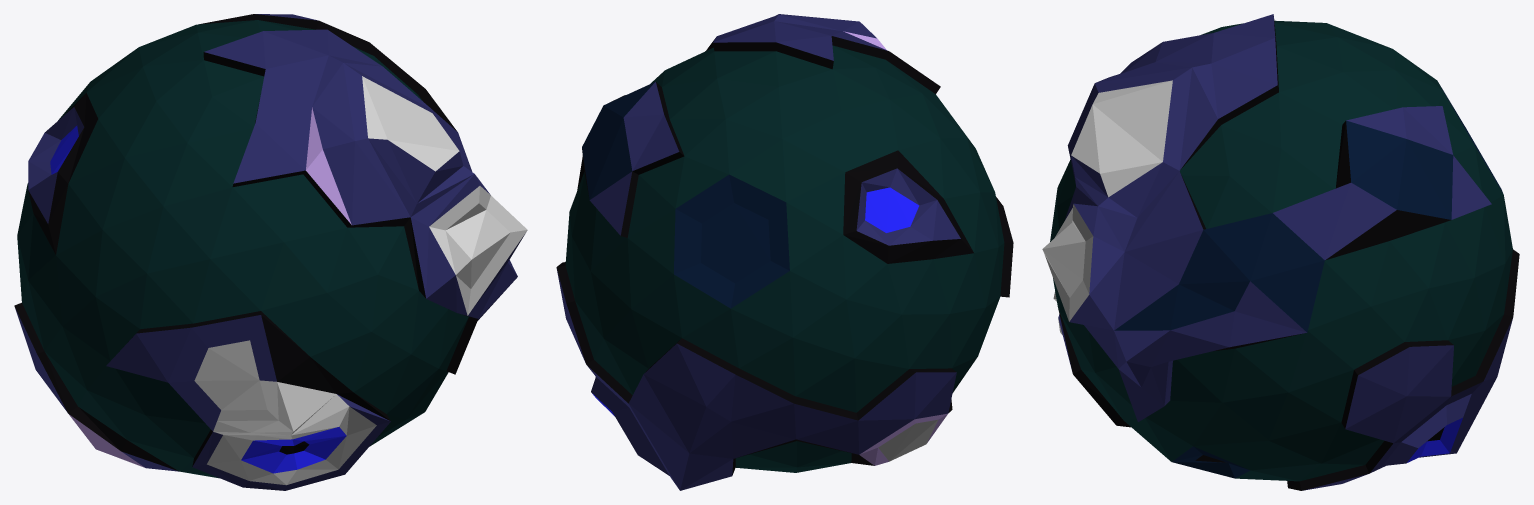
The model's file is watchC_planet01.dae.
3 renders of one model, left to right at view 1: azimuth 30°, elevation 25°; view 2: azimuth 150°, elevation 25°; view 3: azimuth 270°, elevation 25°, orthographic. The views are drawn at different scales.
Visible parts, largest first — view 1: planet03-001; view 2: planet03-001; view 3: planet03-001.
Boxes of the visible parts, x1,y1,x2,y2 form: planet03-001: (14,14,527,490); planet03-001: (556,14,1013,490); planet03-001: (1042,14,1519,490).
Size of the model in its own units: 2.02 by 2.05 by 2.05.
